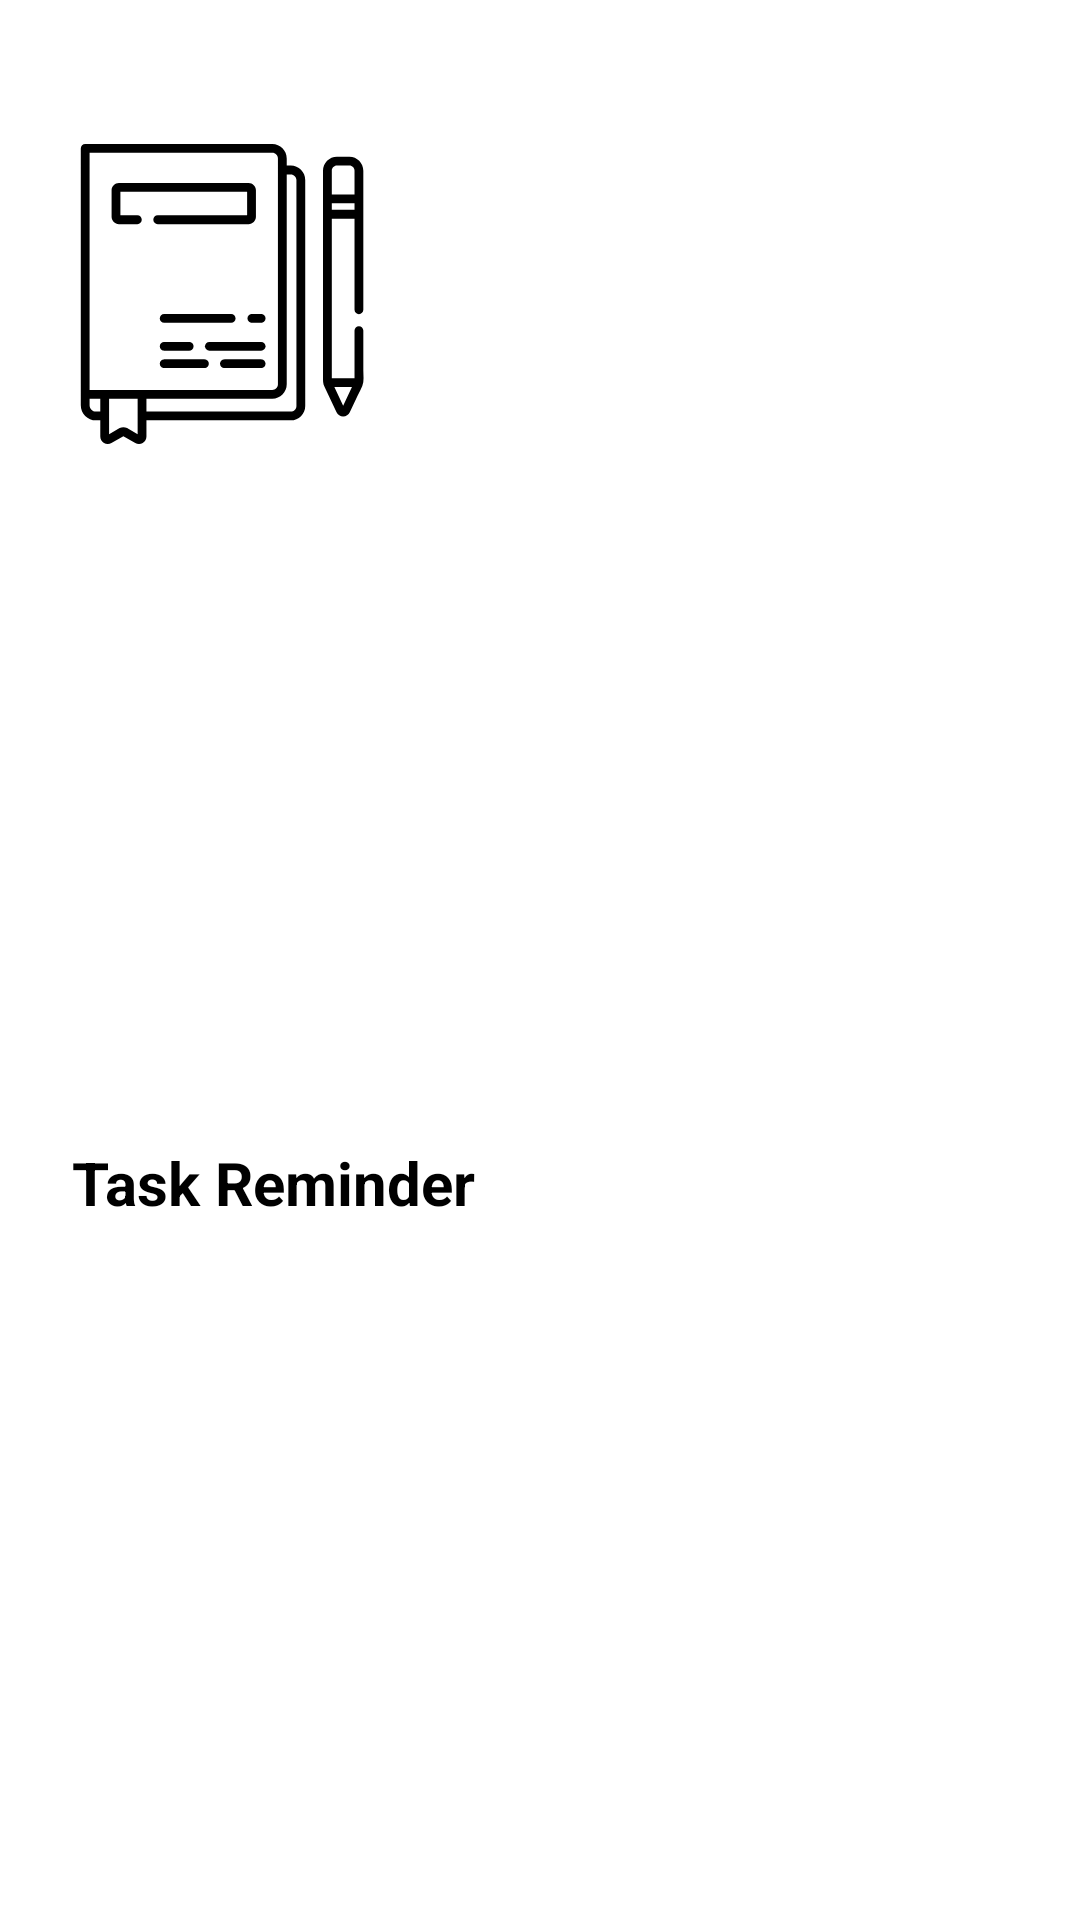

Named icons in this screenshot (1080px×1920px) and their centers, (x,y):
journal: (222,294)
